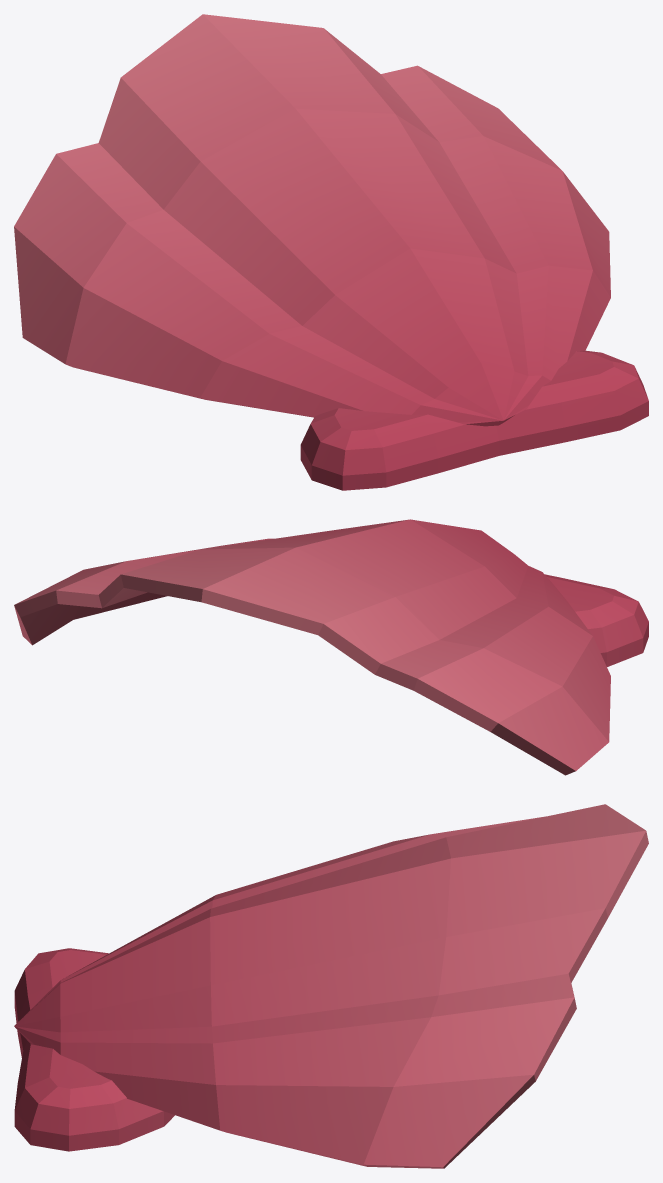
The model's file is shell_pink_2.fbx.
3 views of the same model, one above another, from view 1: azimuth 30°, elevation 25°; view 2: azimuth 150°, elevation 25°; view 3: azimuth 270°, elevation 25° (orthographic). The views are drawn at different scales.
Parts seen in each view (by area): view 1: shell_pink_2; view 2: shell_pink_2; view 3: shell_pink_2.
Boxes of the visible parts, box(x1,y1,x2,y2) form: shell_pink_2: box(14, 14, 648, 490); shell_pink_2: box(14, 519, 648, 775); shell_pink_2: box(14, 804, 648, 1168).
Size of the model in its own units: 0.3501 by 0.1358 by 0.3311.
